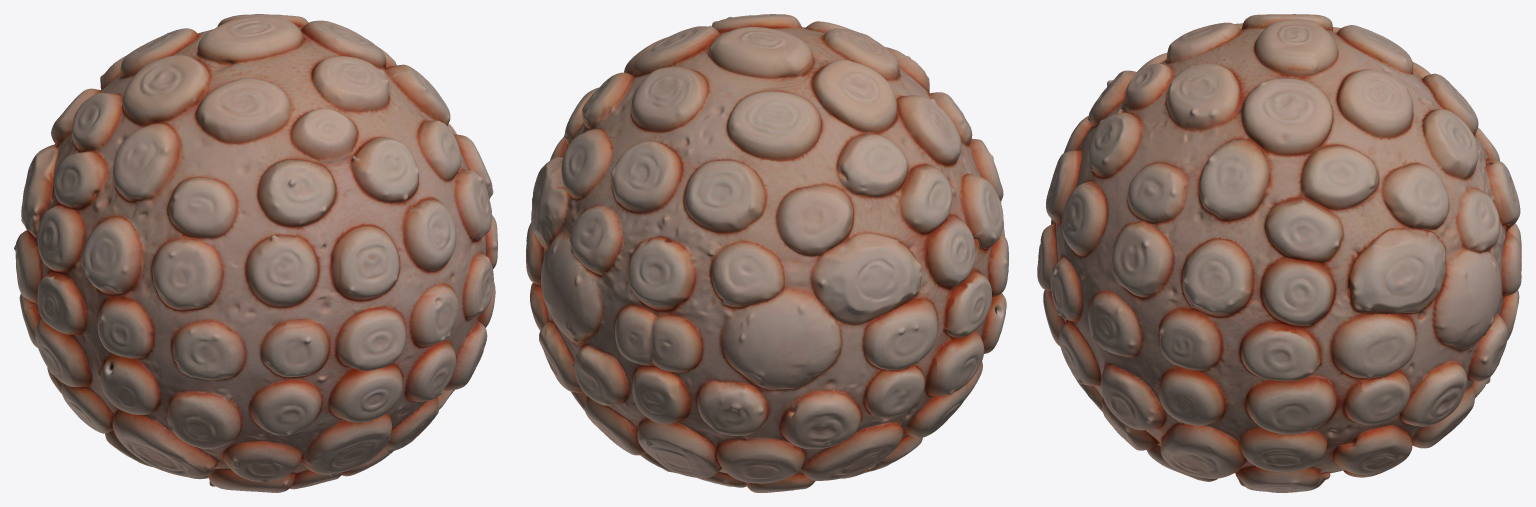
The model's file is detailed_realistic_model_solid_05.glb.
The picture shows the model from 3 angles, left to right: view 1: azimuth 30°, elevation 25°; view 2: azimuth 150°, elevation 25°; view 3: azimuth 270°, elevation 25°; orthographic projection.
Parts seen in each view (by area): view 1: tripo_node_7dd38d7e-04d7-464b-95e8-6dce7ffcb8e5; view 2: tripo_node_7dd38d7e-04d7-464b-95e8-6dce7ffcb8e5; view 3: tripo_node_7dd38d7e-04d7-464b-95e8-6dce7ffcb8e5.
Part boxes in pixels (bbox=[...]): tripo_node_7dd38d7e-04d7-464b-95e8-6dce7ffcb8e5: bbox=[14, 14, 497, 492]; tripo_node_7dd38d7e-04d7-464b-95e8-6dce7ffcb8e5: bbox=[526, 14, 1008, 492]; tripo_node_7dd38d7e-04d7-464b-95e8-6dce7ffcb8e5: bbox=[1037, 14, 1521, 492].
Size of the model in its own units: 0.9995 by 0.9854 by 1.
Materials: 1 (1 with a texture image).
